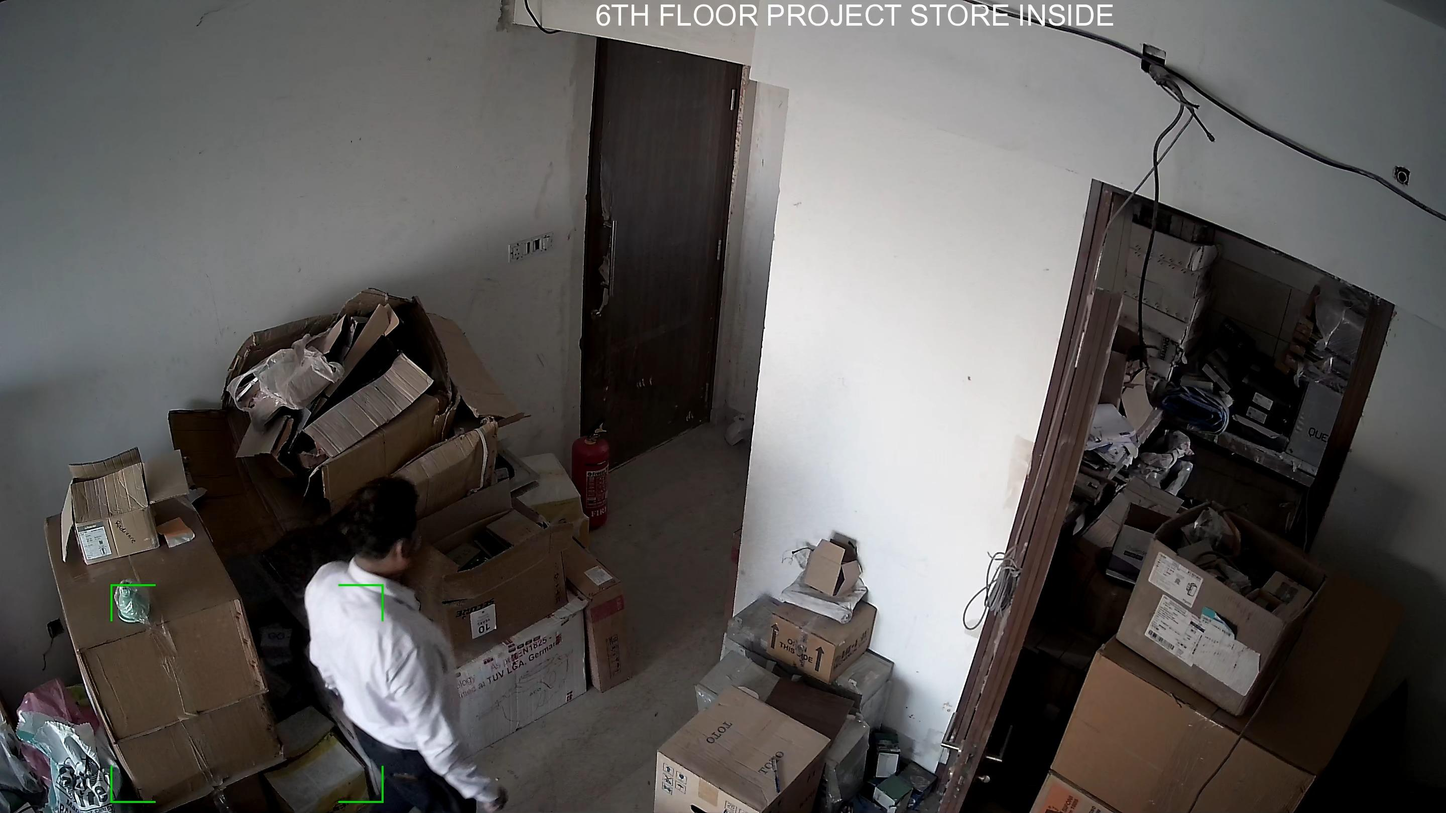Door-Close: (567, 35, 754, 487)
